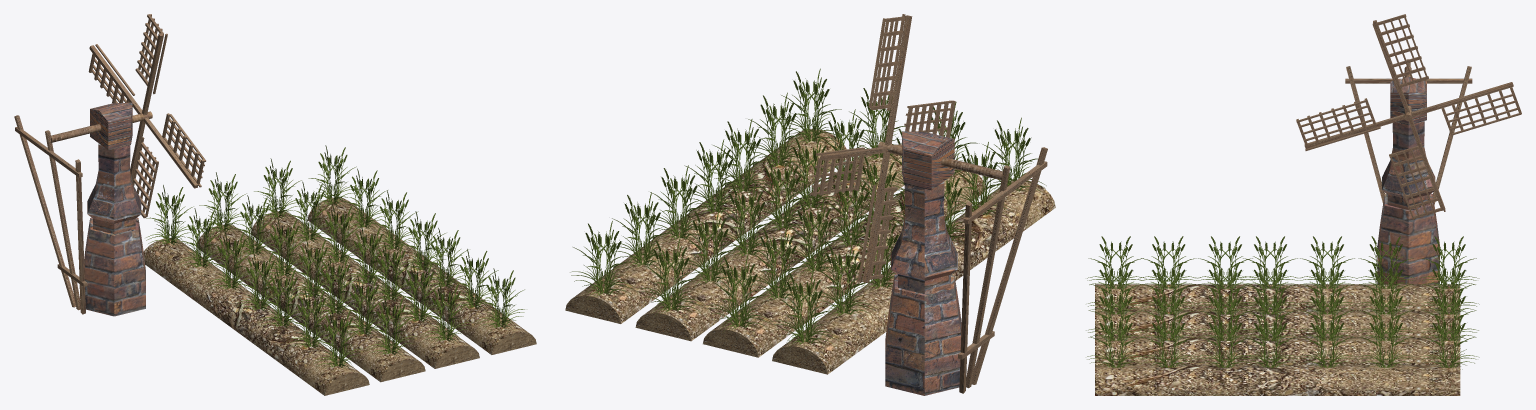
File: Wheat Farm Finished.fbx
3 renders of one model, left to right at view 1: azimuth 30°, elevation 25°; view 2: azimuth 150°, elevation 25°; view 3: azimuth 270°, elevation 25°, orthographic. The views are drawn at different scales.
Visible parts, largest first — view 1: pCylinder8, Windmill_Base, pCylinder6, pCylinder5, pCylinder7, Windmill_Arm4, pasted__Turning_Mechanism (×3), Windmill_Top, pasted__pasted__Turning_Mechanism, pCylinder9, pPlane30, pPlane18 (+6 smaller); view 2: Windmill_Base, pCylinder5, pCylinder6, pCylinder8, pCylinder7, Windmill_Arm4, pasted__Turning_Mechanism (×3), Windmill_Top, pasted__pasted__Turning_Mechanism, pCylinder9, pPlane71, pPlane22 (+38 smaller); view 3: pCylinder5, pCylinder6, pCylinder8, pCylinder7, Windmill_Arm4, Windmill_Base, Windmill_Top, pasted__Turning_Mechanism (×2), pasted__pasted__Turning_Mechanism, pPlane88, pPlane103, pPlane109 (+53 smaller).
Part boxes in pixels (x1,y1,x2,y2): pCylinder8: [143, 238, 369, 395]; Windmill_Base: [84, 143, 145, 316]; pCylinder6: [251, 211, 479, 368]; pCylinder5: [308, 197, 536, 354]; pCylinder7: [197, 224, 425, 382]; Windmill_Arm4: [88, 14, 205, 218]; pasted__Turning_Mechanism (×3): [15, 127, 85, 314]; Windmill_Top: [90, 102, 132, 150]; pasted__pasted__Turning_Mechanism: [14, 115, 75, 307]; pCylinder9: [51, 111, 152, 142]; pPlane30: [365, 303, 416, 354]; pPlane18: [176, 216, 226, 267]; Windmill_Base: [885, 181, 961, 395]; pCylinder5: [565, 128, 846, 323]; pCylinder6: [635, 147, 904, 341]; pCylinder8: [772, 179, 1055, 374]; pCylinder7: [703, 169, 985, 357]; Windmill_Arm4: [810, 14, 955, 282]; pasted__Turning_Mechanism (×3): [963, 147, 1047, 388]; Windmill_Top: [902, 131, 954, 190]; pasted__pasted__Turning_Mechanism: [959, 201, 972, 393]; pCylinder9: [877, 141, 1002, 180]; pPlane71: [638, 247, 703, 311]; pPlane22: [773, 280, 837, 343]; pCylinder5: [1095, 365, 1460, 395]; pCylinder6: [1095, 337, 1460, 365]; pCylinder8: [1095, 284, 1460, 311]; pCylinder7: [1095, 311, 1460, 337]; Windmill_Arm4: [1296, 14, 1521, 219]; Windmill_Base: [1377, 121, 1439, 284]; Windmill_Top: [1390, 76, 1426, 125]; pasted__Turning_Mechanism (×2): [1345, 66, 1472, 203]; pasted__pasted__Turning_Mechanism: [1432, 66, 1471, 204]; pPlane88: [1298, 315, 1357, 367]; pPlane103: [1195, 315, 1254, 367]; pPlane109: [1139, 315, 1198, 367].
Size of the model in its own units: 22.04 by 17.64 by 25.14.
5 materials, 4 textured.
